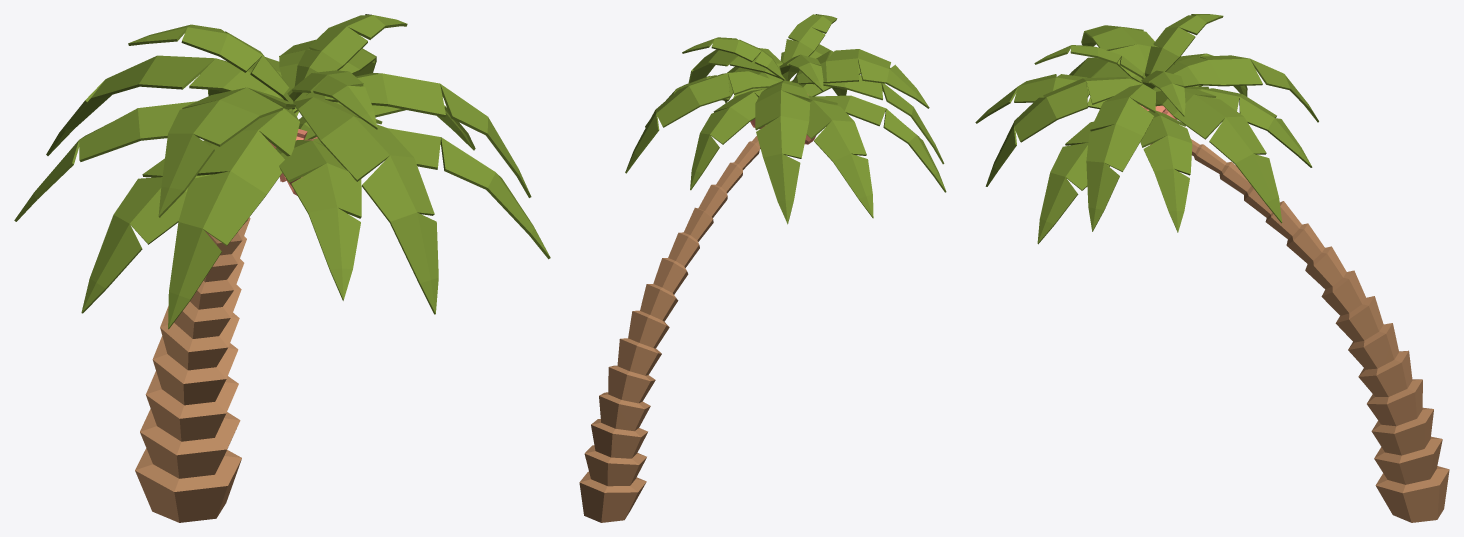
File: Palm_7.fbx
3 renders of one model, left to right at view 1: azimuth 30°, elevation 25°; view 2: azimuth 150°, elevation 25°; view 3: azimuth 270°, elevation 25°, orthographic. The views are drawn at different scales.
Visible parts, largest first — view 1: Palm_7.001; view 2: Palm_7.001; view 3: Palm_7.001.
Boxes of the visible parts, x1,y1,x2,y2 form: Palm_7.001: [14, 14, 550, 522]; Palm_7.001: [579, 14, 946, 522]; Palm_7.001: [975, 14, 1449, 522].
Size of the model in its own units: 2.17 by 3.02 by 2.94.
